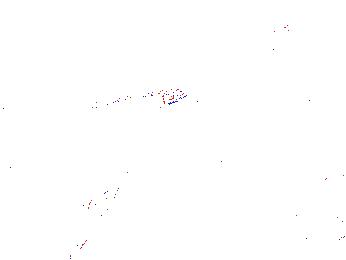X-ray fish: (64, 192, 91, 224)
glassfish: (73, 167, 131, 257), (77, 85, 194, 123)
red belly glassfish: (253, 17, 291, 39)
redtail glassfish: (117, 1, 184, 11)
